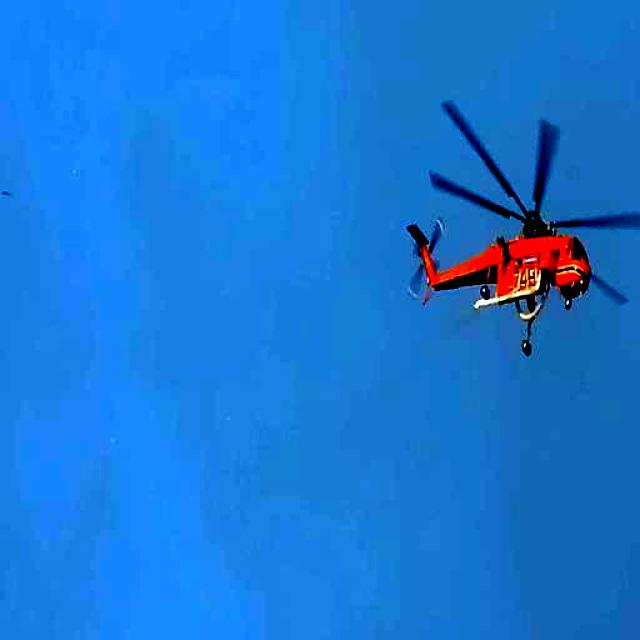drone: (408, 92, 638, 362)
